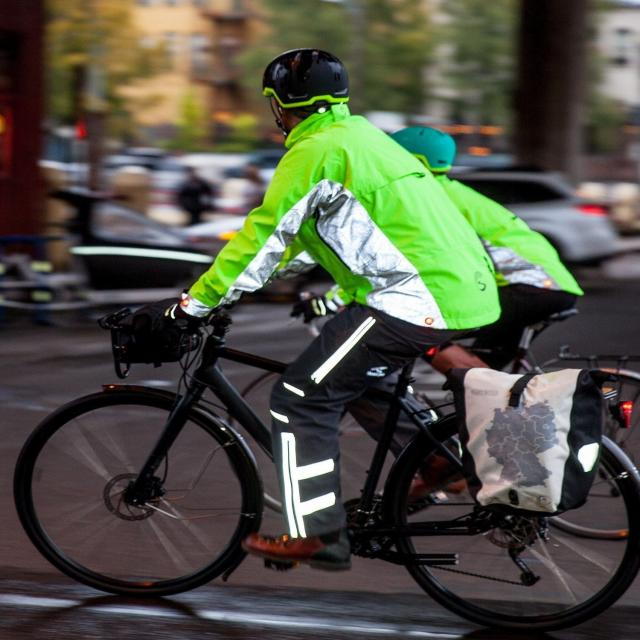Safety-Helmet: (256, 44, 357, 107)
